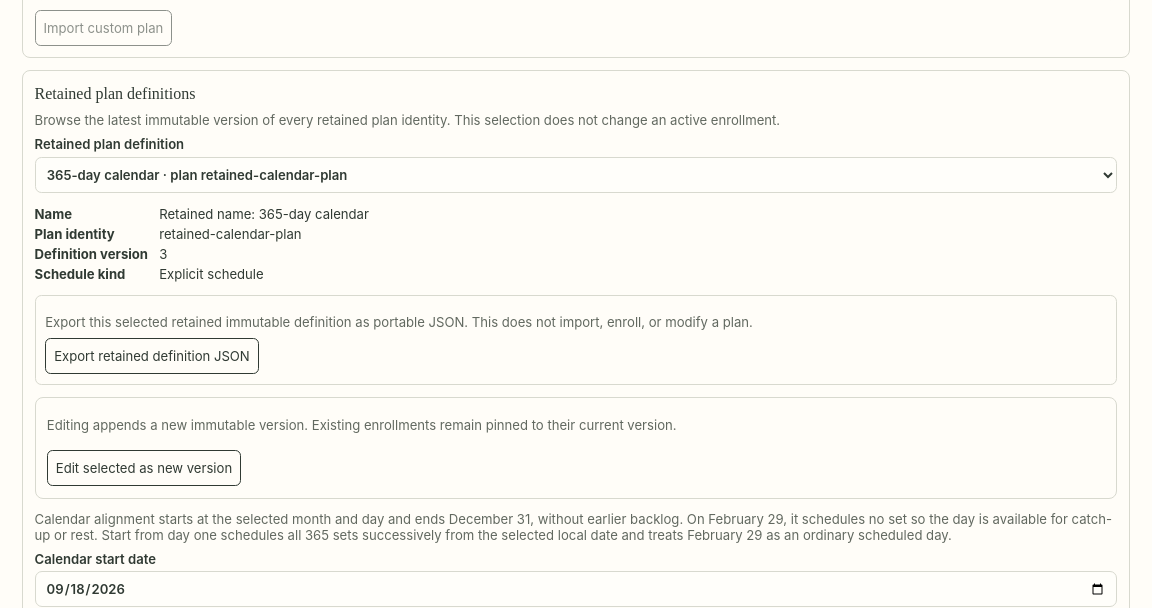
Test case: retained plan panel › shows a retained-definition export failure and permits a retry without changing other plan state
(page scrolled)
Expected: the dropdown labelled "Retained plan definition" is shown, [35,157,1117,193]
Click the button "Export retained definition JSON": (152, 356) [45,338,259,374]
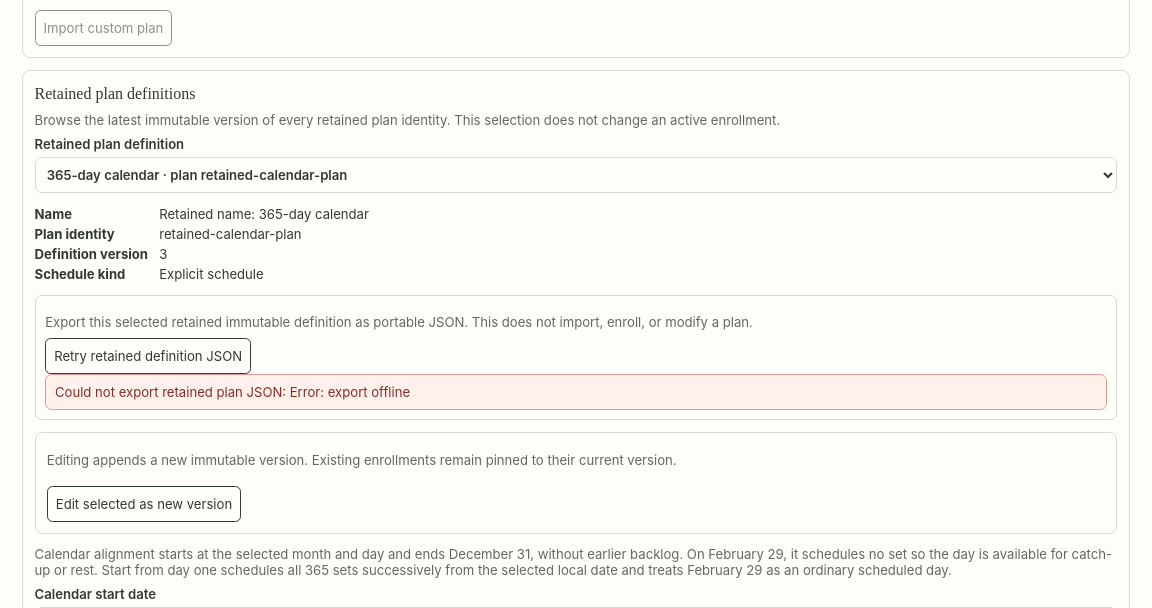
Result: the text "Could not export retained plan JSON: Error: export offline" is shown at [45,374,1107,410]
Click the button "Retry retained definition JSON": (148, 356) [45,338,251,374]
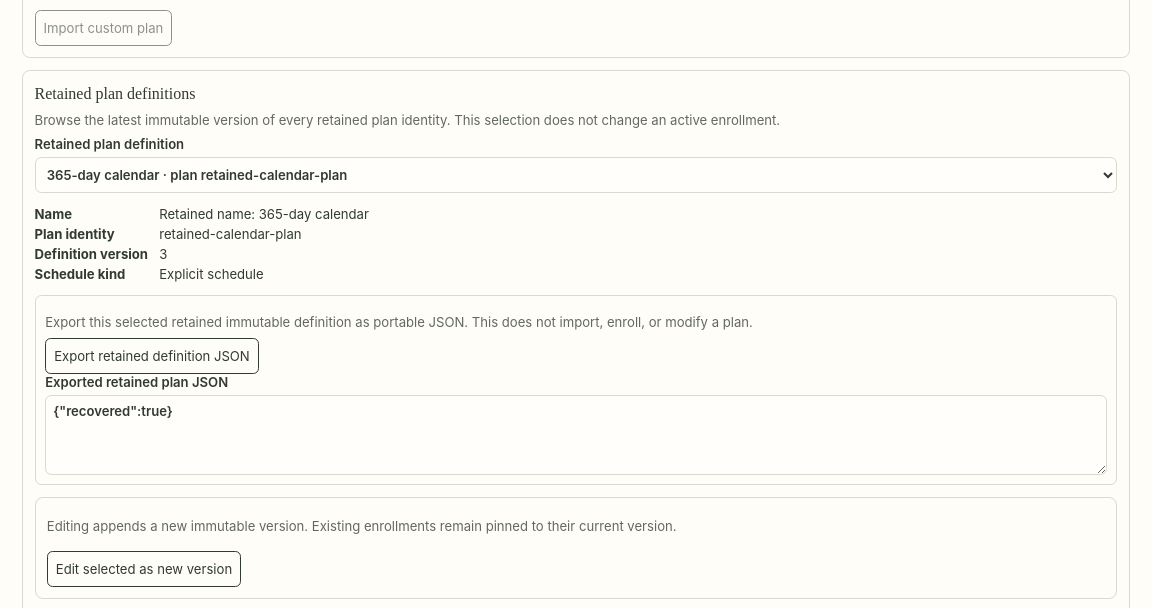
Result: the text box labelled "Exported retained plan JSON" holds "{\"recovered\":true}" at [45,395,1107,475]
